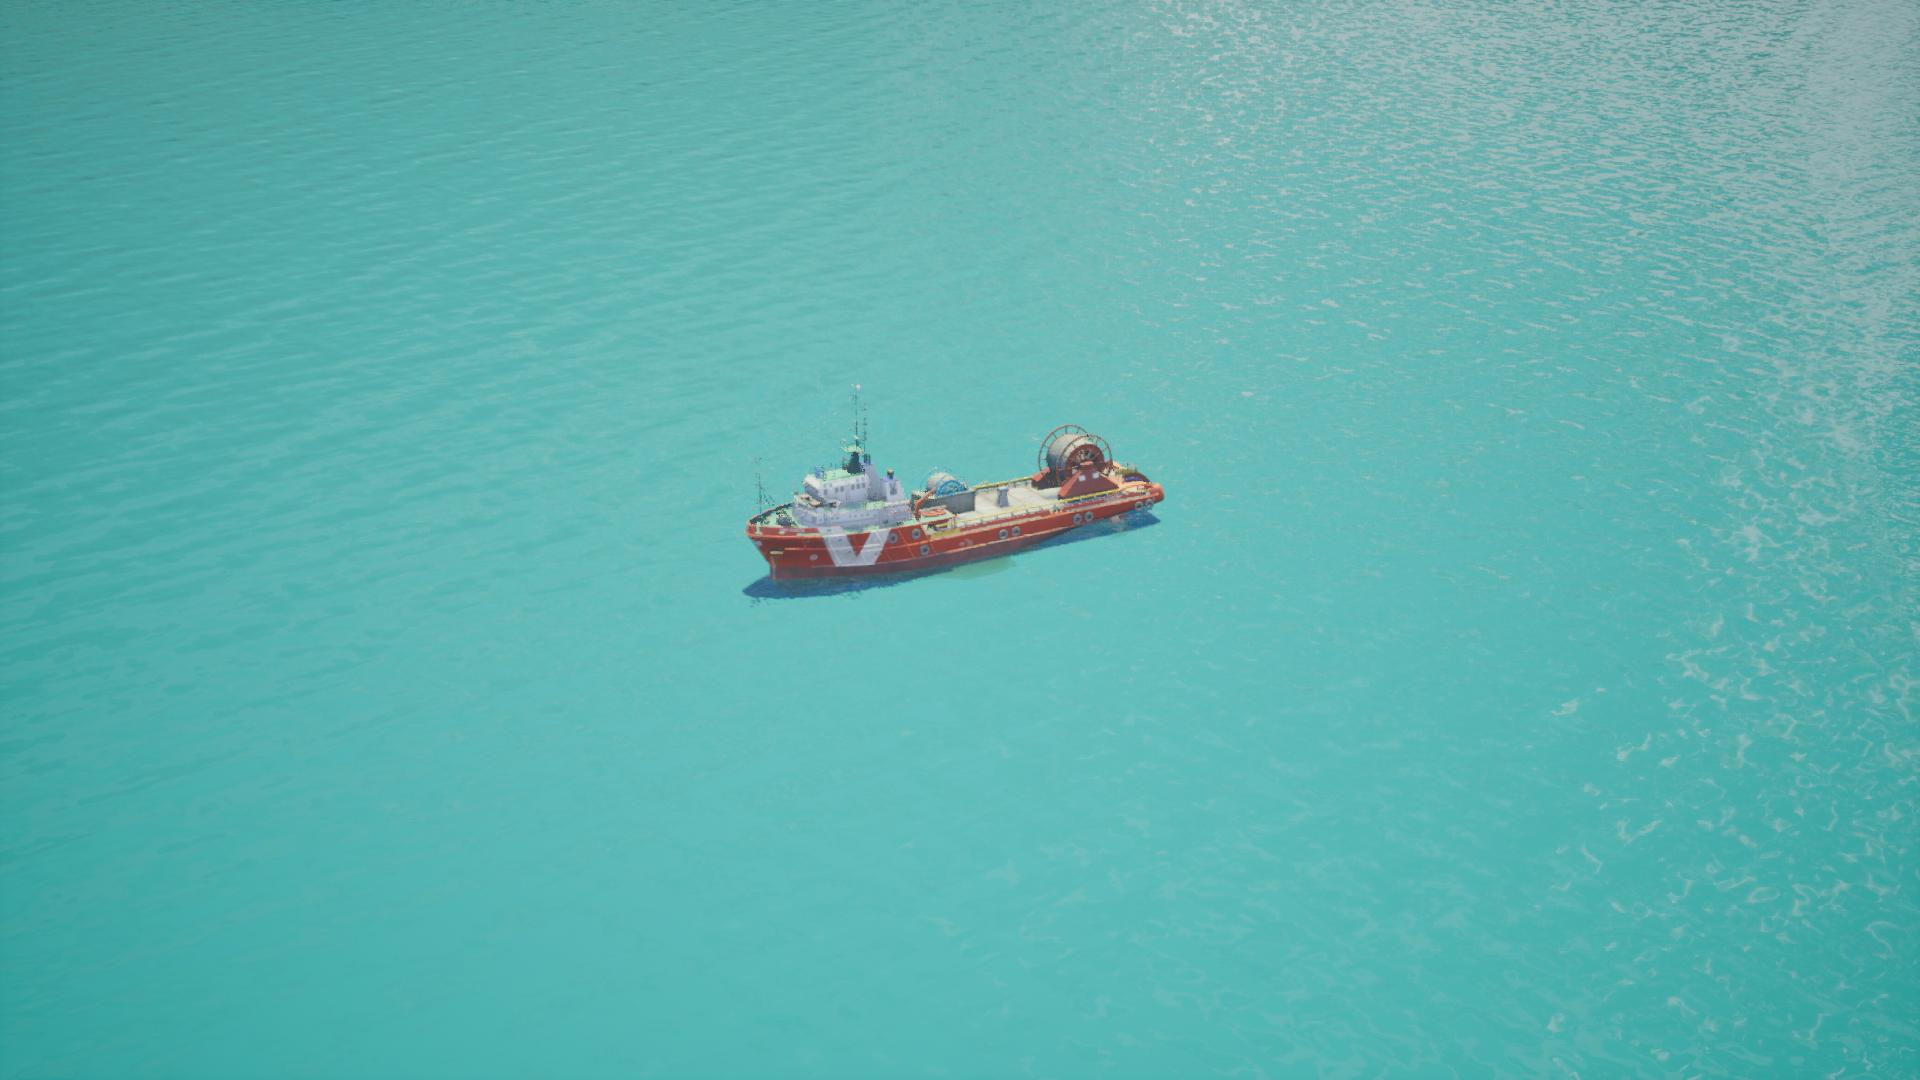Tug Boat: (742, 392, 1166, 600)
